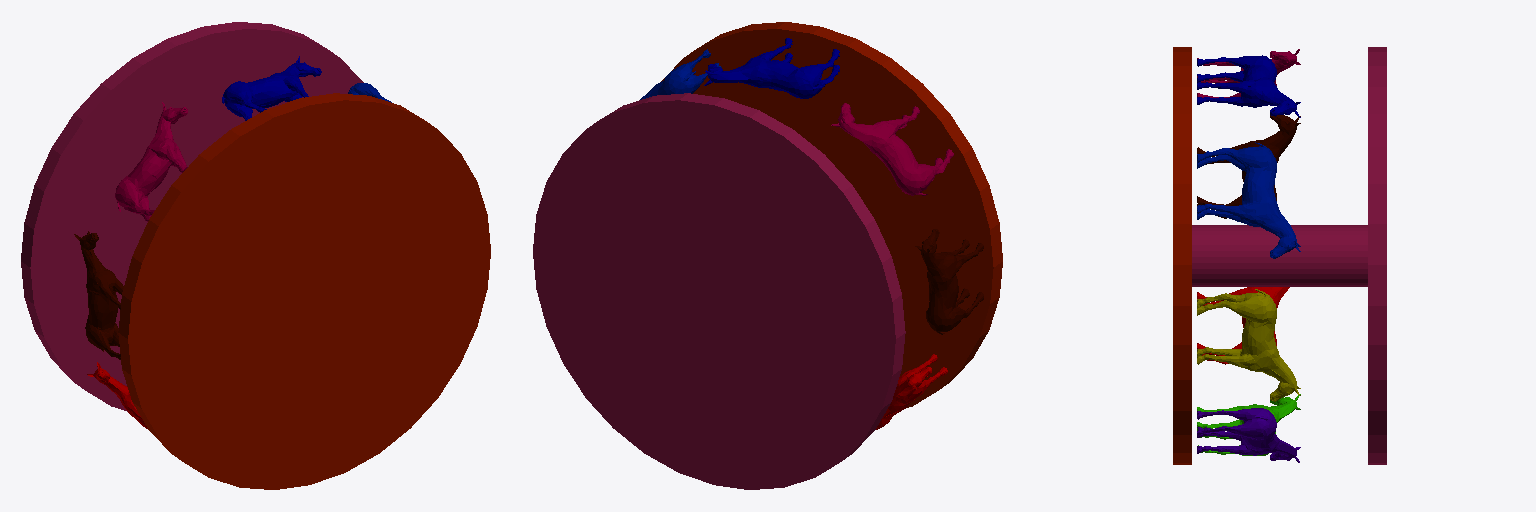
The model's file is merry.obj.
3 views of the same model, side by side, from view 1: azimuth 30°, elevation 25°; view 2: azimuth 150°, elevation 25°; view 3: azimuth 270°, elevation 25° (orthographic).
Visible parts, largest first — view 1: bottom, top, horse8, horse7, horse1, horse6; view 2: top, bottom, horse8, horse1, horse7, horse6, horse2; view 3: pole, top, bottom, horse2, horse3, horse1, horse4, horse7, horse5, horse8, horse6.
Part boxes in pixels (bbox=[...]): bottom: bbox=[118, 93, 490, 489]; top: bbox=[21, 22, 363, 411]; horse8: bbox=[115, 102, 187, 221]; horse7: bbox=[74, 231, 123, 359]; horse1: bbox=[222, 56, 321, 120]; horse6: bbox=[87, 362, 147, 428]; top: bbox=[533, 93, 905, 489]; bottom: bbox=[661, 22, 1002, 407]; horse8: bbox=[831, 103, 953, 195]; horse1: bbox=[704, 38, 839, 98]; horse7: bbox=[915, 229, 983, 334]; horse6: bbox=[876, 354, 947, 429]; horse2: bbox=[640, 49, 721, 99]; pole: bbox=[1192, 225, 1367, 286]; top: bbox=[1368, 47, 1386, 464]; bottom: bbox=[1173, 47, 1191, 464]; horse2: bbox=[1197, 142, 1300, 258]; horse3: bbox=[1197, 289, 1300, 401]; horse1: bbox=[1197, 55, 1300, 117]; horse4: bbox=[1197, 408, 1300, 462]; horse7: bbox=[1197, 115, 1300, 218]; horse5: bbox=[1197, 394, 1300, 455]; horse8: bbox=[1197, 49, 1300, 97]; horse6: bbox=[1197, 287, 1289, 364].
Size of the model in its own units: 7.77 by 7.77 by 3.97.